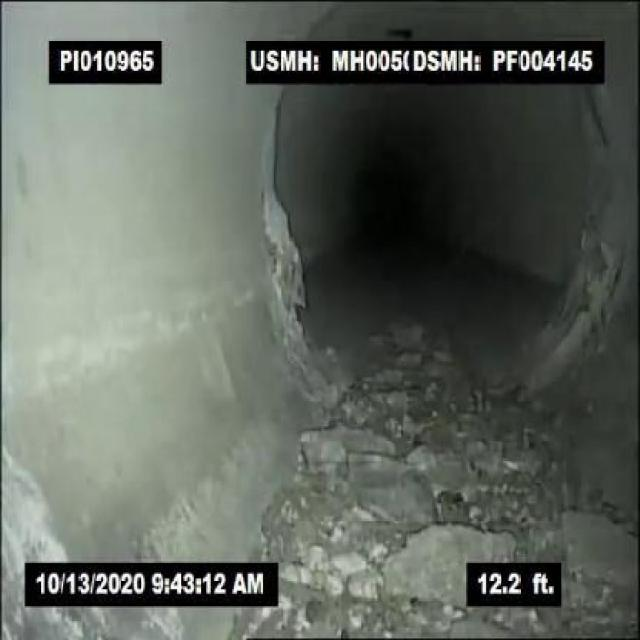Debris: (278, 375, 402, 517), (343, 522, 522, 610), (410, 378, 516, 522)
